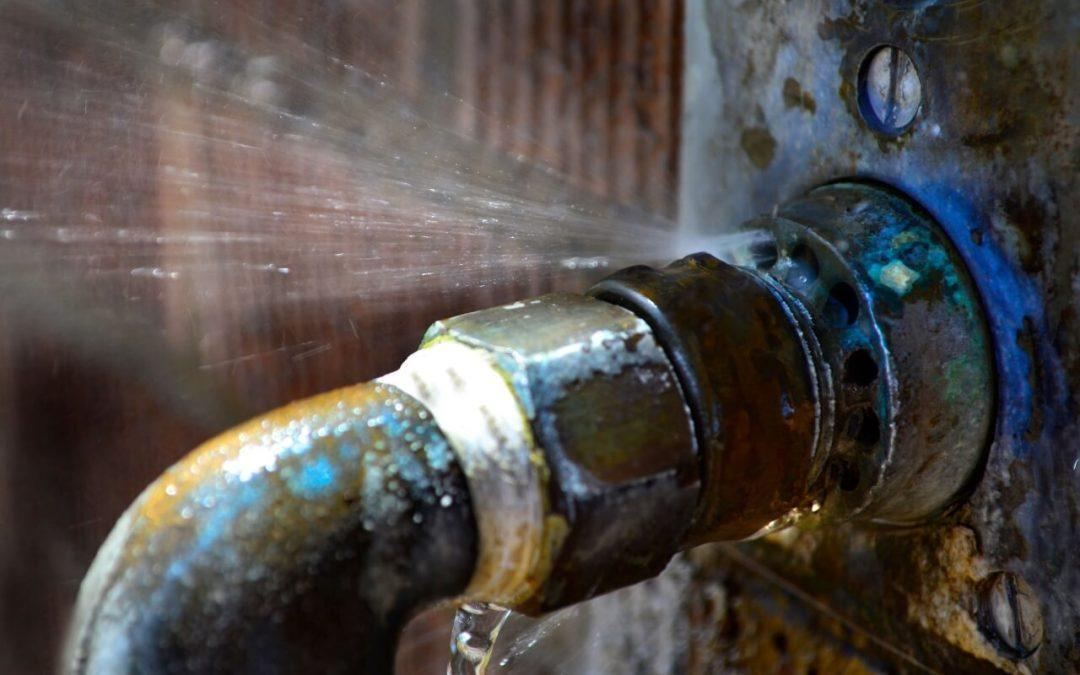pipe burst: (0, 6, 780, 298)
